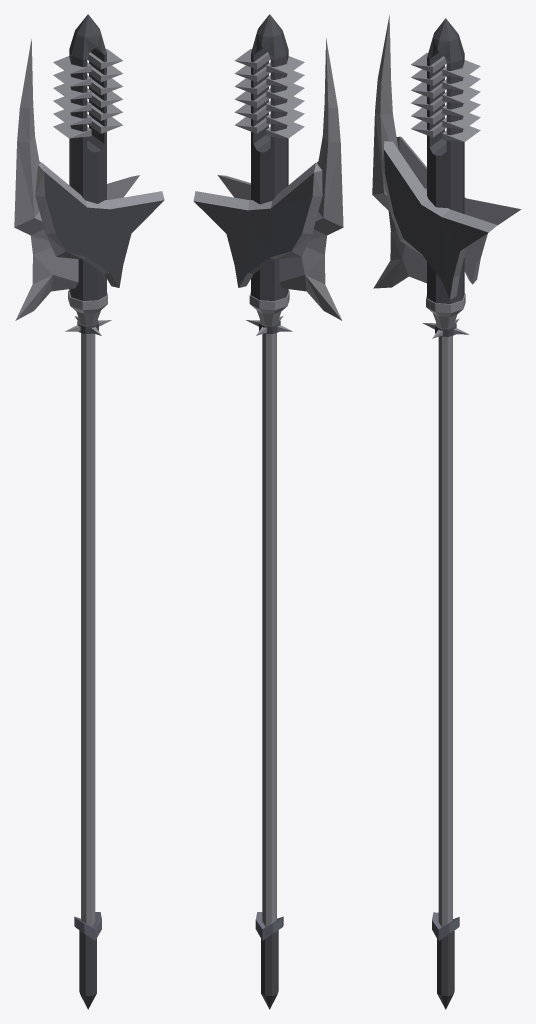
Rendered from Lanca_B09.fbx.
3 renders of one model, left to right at view 1: azimuth 30°, elevation 25°; view 2: azimuth 150°, elevation 25°; view 3: azimuth 330°, elevation 25°, orthographic.
Visible parts, largest first — view 1: polearm_9; view 2: polearm_9; view 3: polearm_9.
Boxes of the visible parts, x1,y1,x2,y2 form: polearm_9: (14, 14, 164, 1009); polearm_9: (193, 14, 343, 1009); polearm_9: (372, 15, 521, 1009).
Bounding box in the file's own units: 29.14 × 202 × 12.27.
